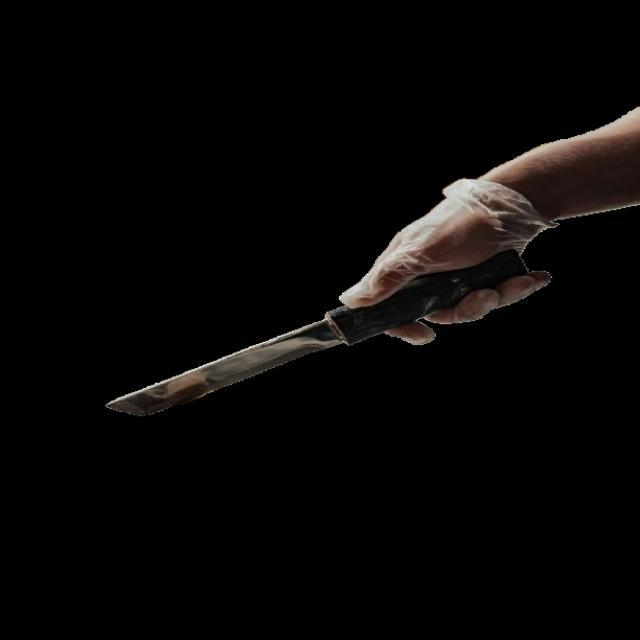knife: (101, 109, 638, 424)
